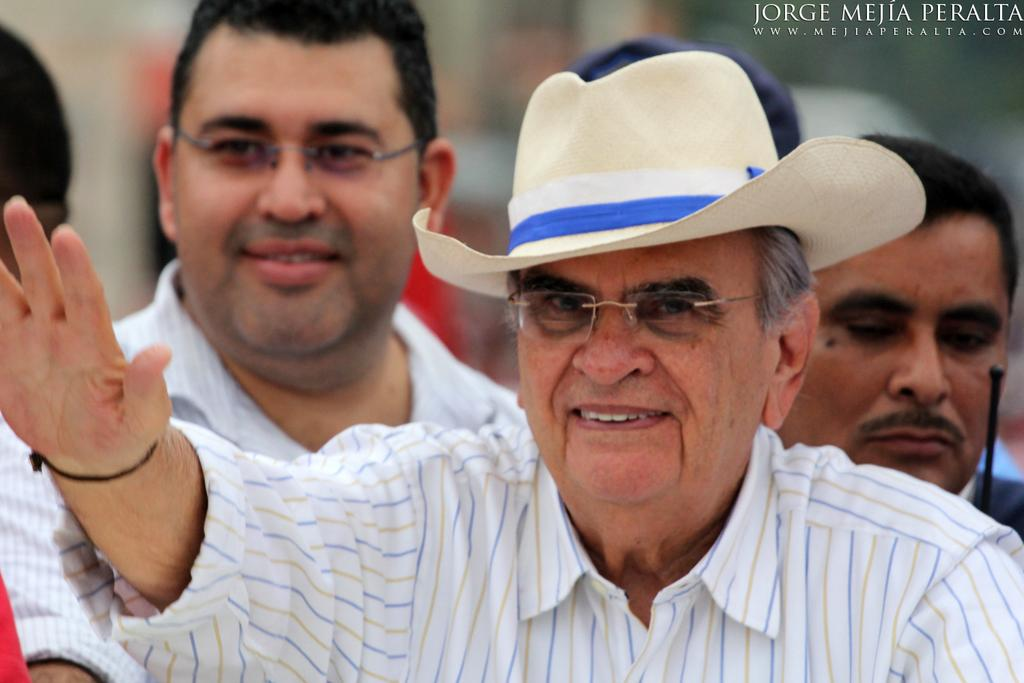Hat: (413, 52, 927, 300)
